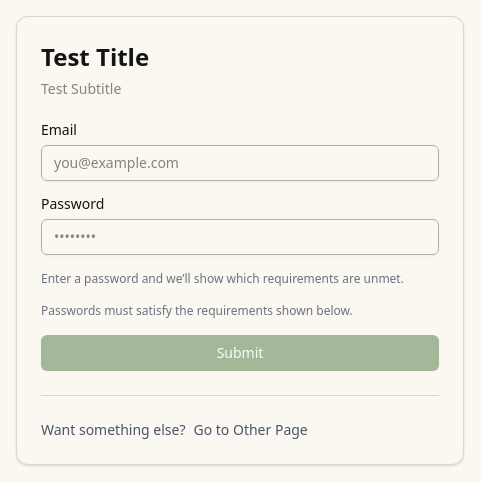
Test: AuthCard Component › should display password validation errors if a validator is provided
Type "123" into the password field labelled "Password" at [240, 236], box x1=41 y1=218 x2=439 y2=254
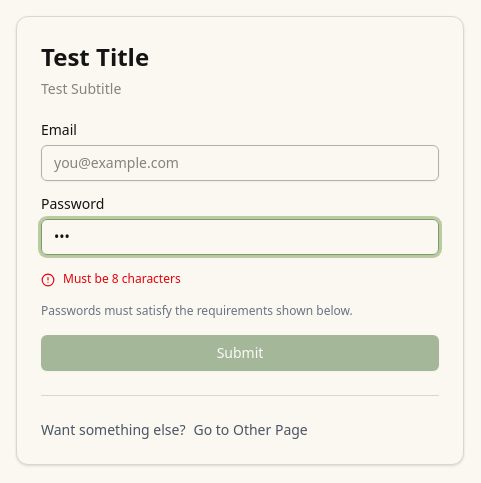
Expected: the text "Must be 8 characters" is shown, x1=63 y1=270 x2=181 y2=286
